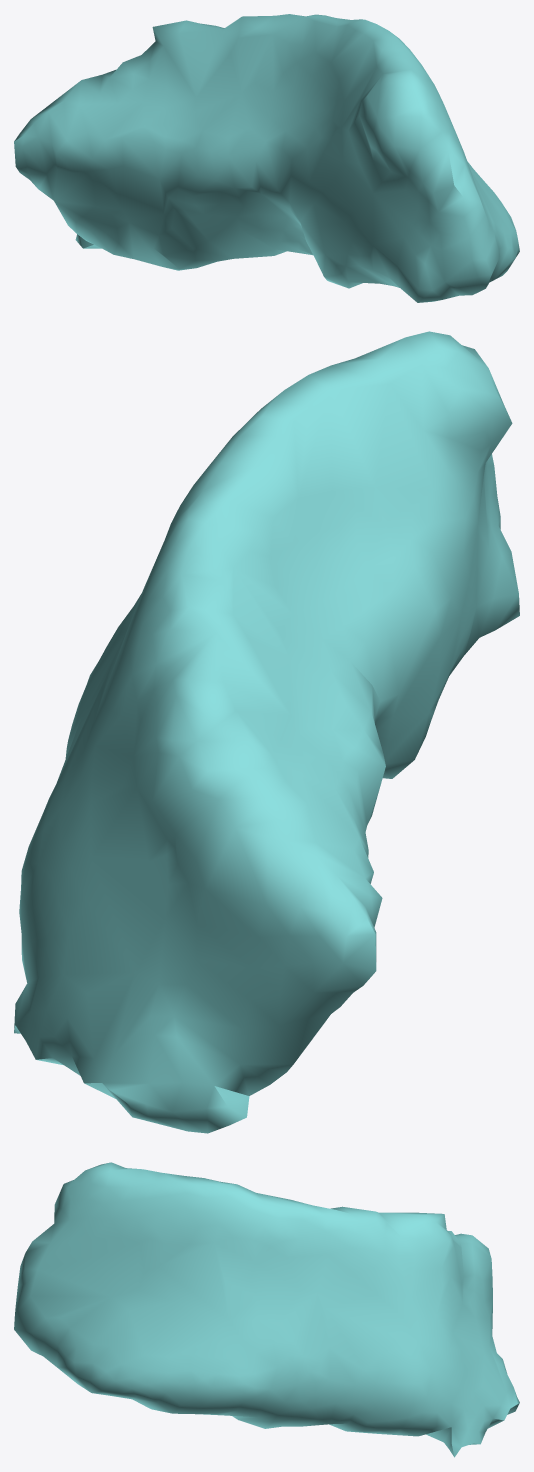
The model's file is spl-516.glb.
3 renders of one model, top to bottom at view 1: azimuth 30°, elevation 25°; view 2: azimuth 150°, elevation 25°; view 3: azimuth 270°, elevation 25°, orthographic. The views are drawn at different scales.
Visible parts, largest first — view 1: spl-516; view 2: spl-516; view 3: spl-516.
Boxes of the visible parts, x1,y1,x2,y2 form: spl-516: (14,14,519,302); spl-516: (14,331,519,1133); spl-516: (14,1162,519,1457).
Size of the model in its own units: 13.06 by 12.63 by 20.93.
